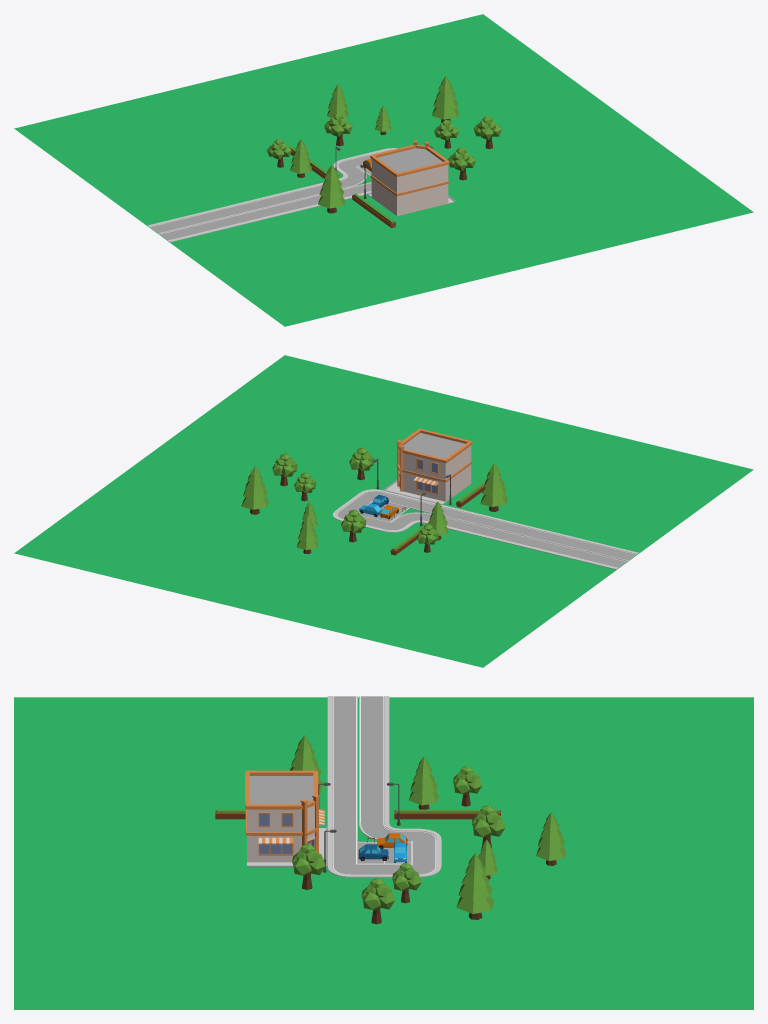
The model's file is parking_jam_29_04_10_05.glb.
3 views of the same model, one above another, from view 1: azimuth 30°, elevation 25°; view 2: azimuth 150°, elevation 25°; view 3: azimuth 270°, elevation 25° (orthographic). The views are drawn at different scales.
Visible parts, largest first — view 1: grass, trees-plant_mat (×2), road-asphalt_mat, house-facade01_mat, road-board_mat, house-facade02_mat, house-asphalt_mat, road-lines_mat; view 2: grass, road-asphalt_mat, trees-plant_mat (×2), house-facade01_mat, road-board_mat, house-facade02_mat, house-asphalt_mat, road-lines_mat; view 3: grass, road-asphalt_mat, trees-plant_mat (×2), road-board_mat, house-facade02_mat, house-facade01_mat, house-asphalt_mat, road-lines_mat, trees-bark_mat, plants-vase_mat, house-windows, plants-plant_mat.
Part boxes in pixels (left/top/right/bottom): grass: left=14, top=14, right=753, bottom=326; trees-plant_mat (×2): left=267, top=76, right=501, bottom=208; road-asphalt_mat: left=150, top=150, right=390, bottom=240; house-facade01_mat: left=371, top=159, right=449, bottom=215; road-board_mat: left=147, top=148, right=397, bottom=242; house-facade02_mat: left=370, top=140, right=449, bottom=196; house-asphalt_mat: left=377, top=148, right=442, bottom=172; road-lines_mat: left=149, top=150, right=389, bottom=240; grass: left=14, top=355, right=753, bottom=667; road-asphalt_mat: left=336, top=491, right=636, bottom=567; trees-plant_mat (×2): left=241, top=447, right=507, bottom=549; house-facade01_mat: left=398, top=445, right=471, bottom=501; road-board_mat: left=333, top=489, right=638, bottom=569; house-facade02_mat: left=396, top=428, right=472, bottom=494; house-asphalt_mat: left=404, top=433, right=465, bottom=458; road-lines_mat: left=336, top=491, right=636, bottom=567; grass: left=14, top=697, right=753, bottom=1009; road-asphalt_mat: left=332, top=696, right=436, bottom=874; trees-plant_mat (×2): left=290, top=735, right=566, bottom=913; road-board_mat: left=327, top=696, right=441, bottom=877; house-facade02_mat: left=245, top=770, right=324, bottom=855; house-facade01_mat: left=247, top=805, right=324, bottom=862; house-asphalt_mat: left=249, top=776, right=313, bottom=804; road-lines_mat: left=333, top=696, right=436, bottom=874; trees-bark_mat: left=302, top=792, right=556, bottom=924; plants-vase_mat: left=215, top=810, right=500, bottom=819; house-windows: left=259, top=814, right=312, bottom=854; plants-plant_mat: left=217, top=809, right=499, bottom=813.
Size of the model in its own units: 1800 by 180 by 1800.
Materials: 15 (3 with a texture image).
